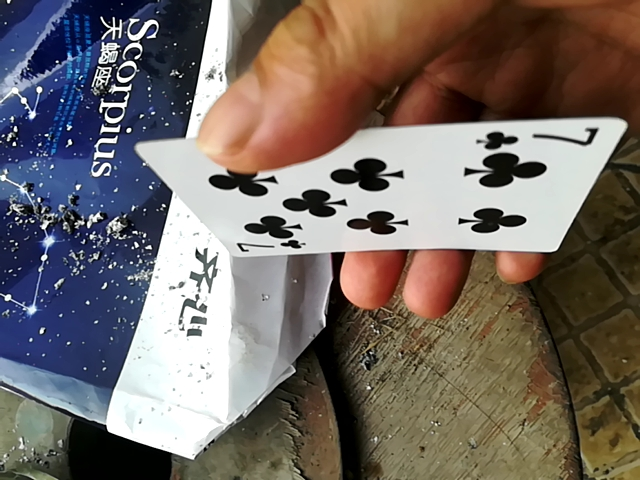mh 7: (187, 104, 632, 254)
